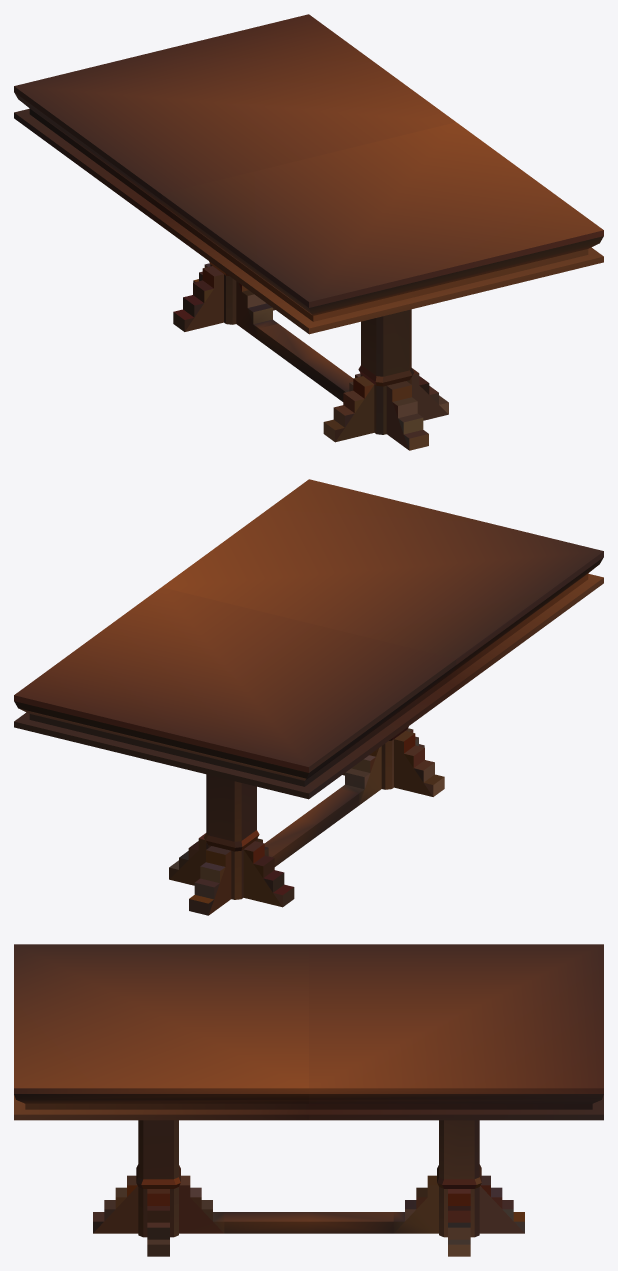
File: Furniture_TableB.fbx
The picture shows the model from 3 angles, top to bottom: view 1: azimuth 30°, elevation 25°; view 2: azimuth 150°, elevation 25°; view 3: azimuth 270°, elevation 25°; orthographic projection.
Visible parts, largest first — view 1: Furniture_TableB; view 2: Furniture_TableB; view 3: Furniture_TableB.
Part boxes in pixels (left/top/right/bottom): Furniture_TableB: left=14, top=14, right=603, bottom=450; Furniture_TableB: left=14, top=479, right=603, bottom=915; Furniture_TableB: left=14, top=944, right=603, bottom=1256.
Size of the model in its own units: 150 by 103 by 260.
